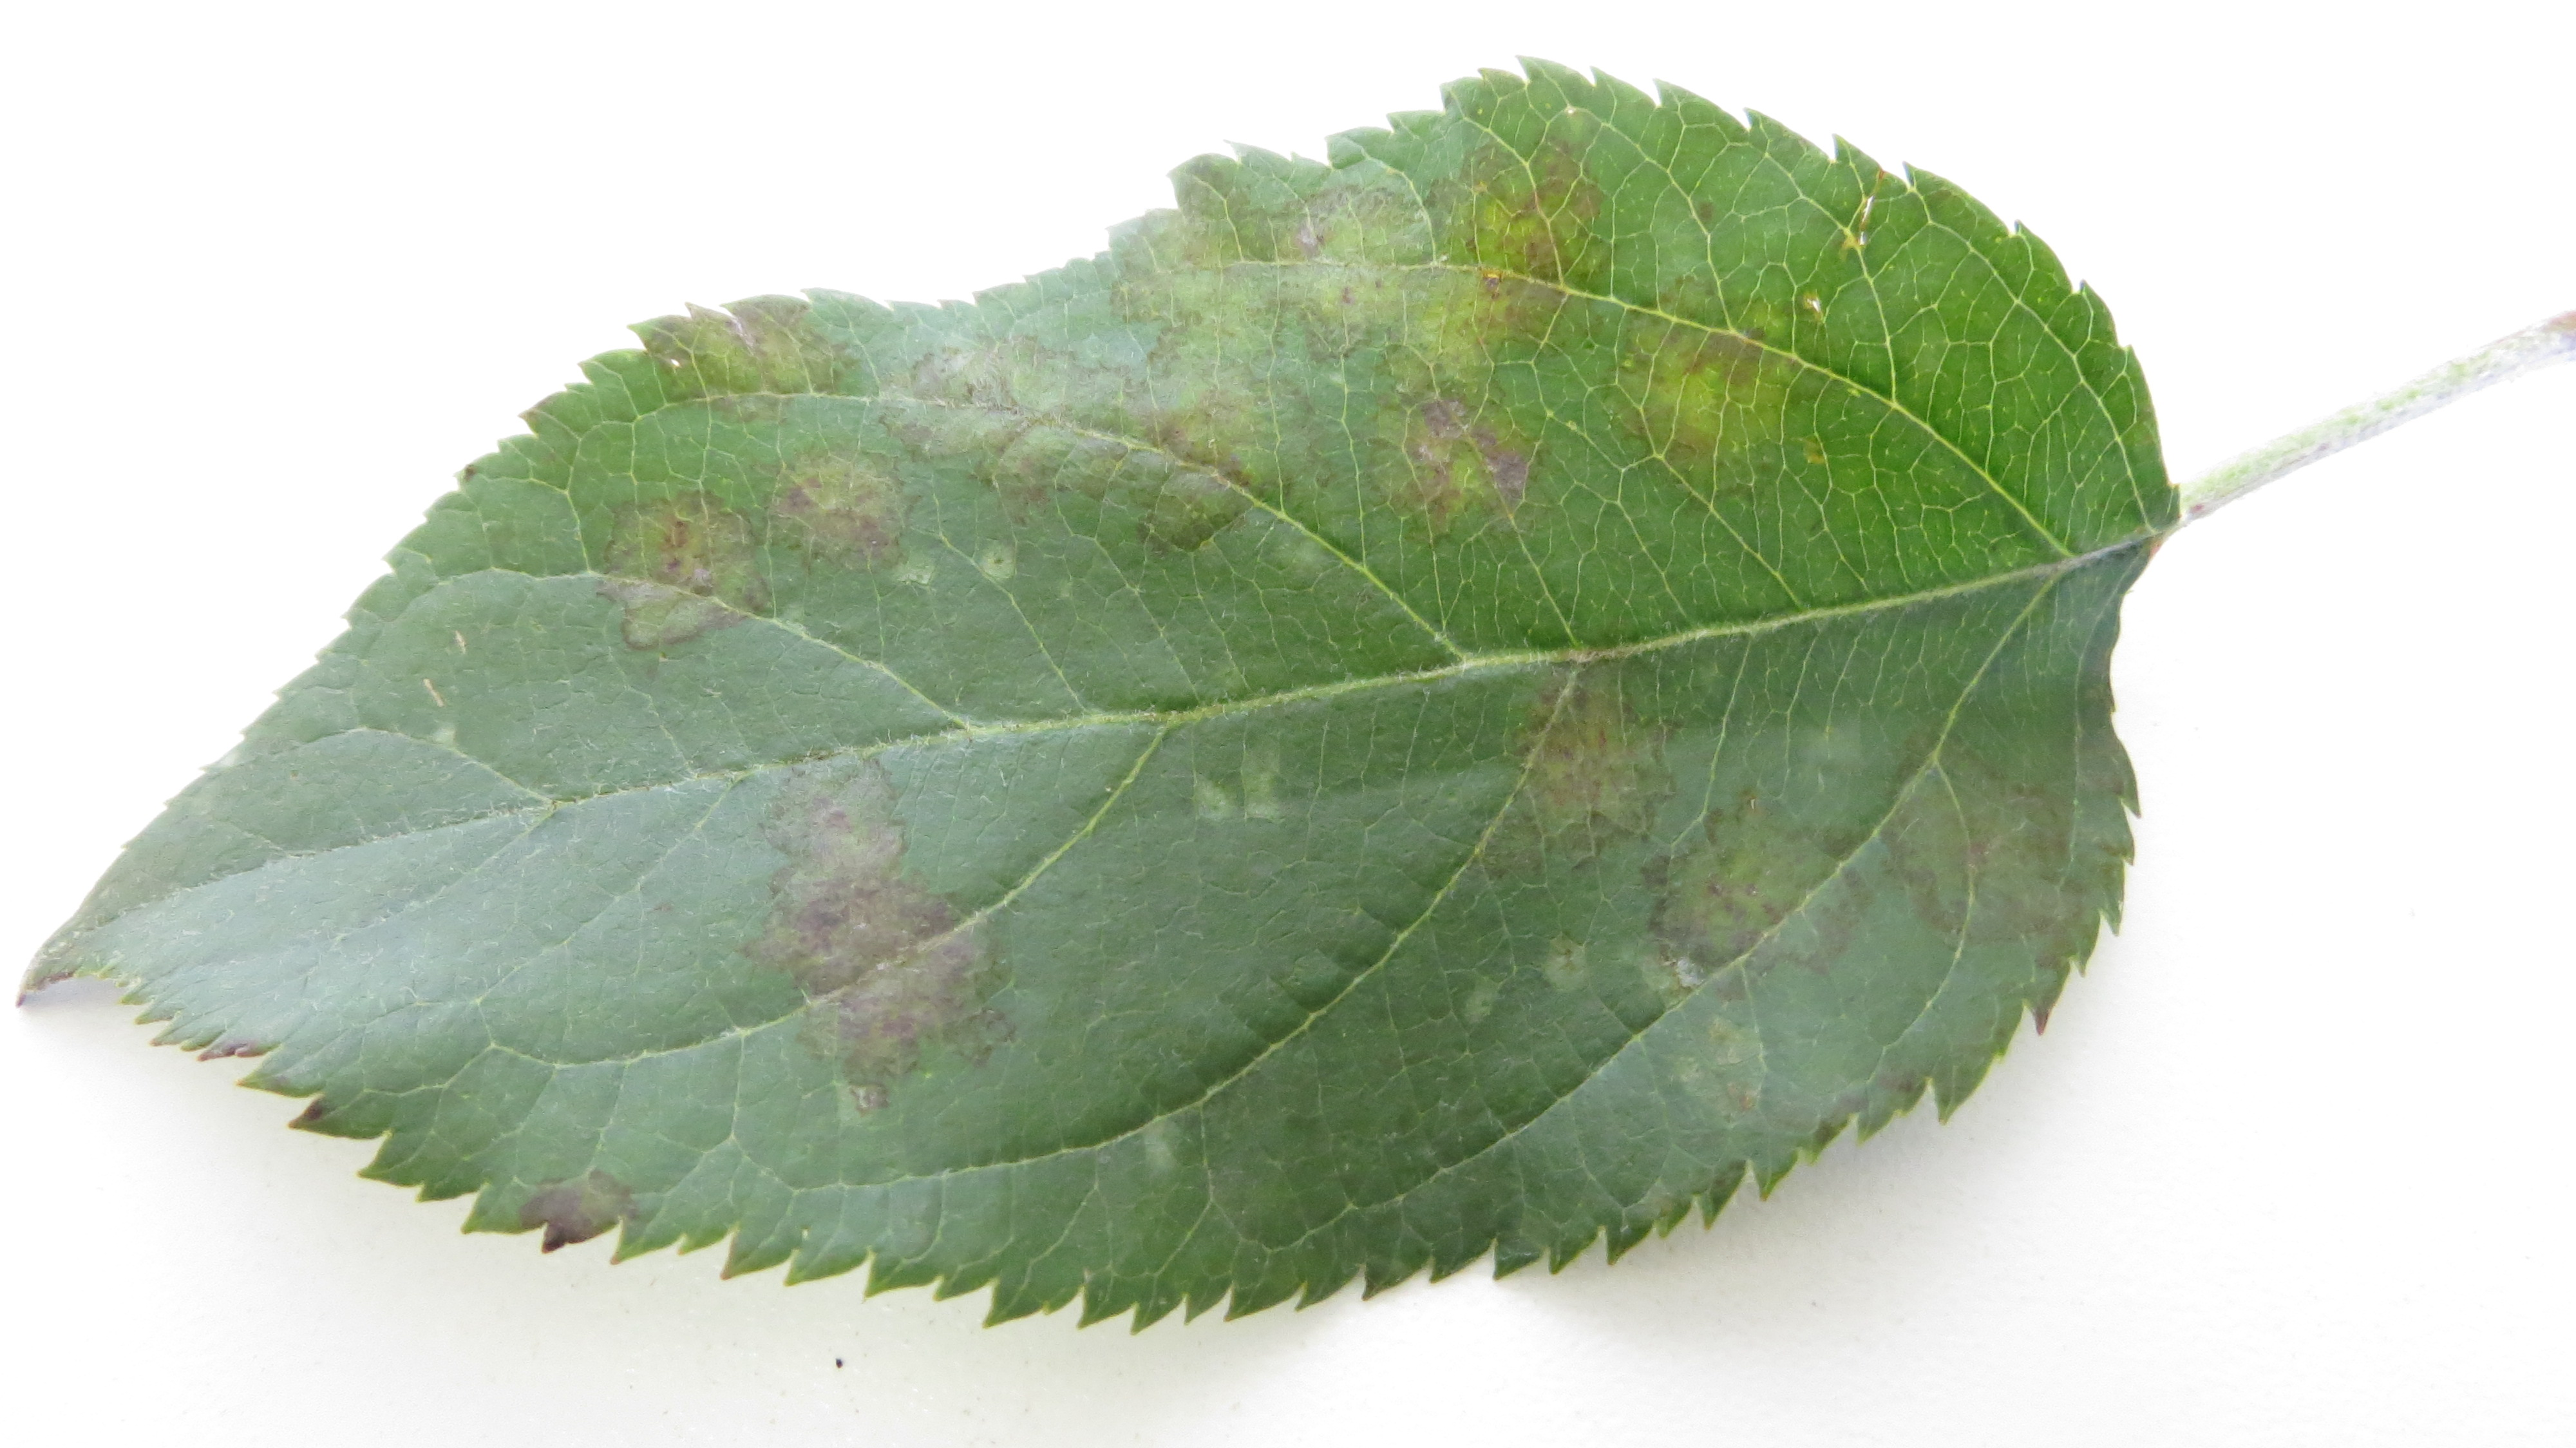sarna: (747, 751, 1003, 1126), (892, 322, 1311, 547), (1467, 621, 1691, 915), (1118, 156, 1408, 335), (1851, 726, 2074, 958), (1596, 260, 1810, 476), (1414, 135, 1615, 359), (1663, 788, 1854, 995), (596, 480, 773, 659), (1357, 350, 1532, 531), (656, 294, 874, 414), (768, 437, 918, 577), (520, 1145, 658, 1264)
